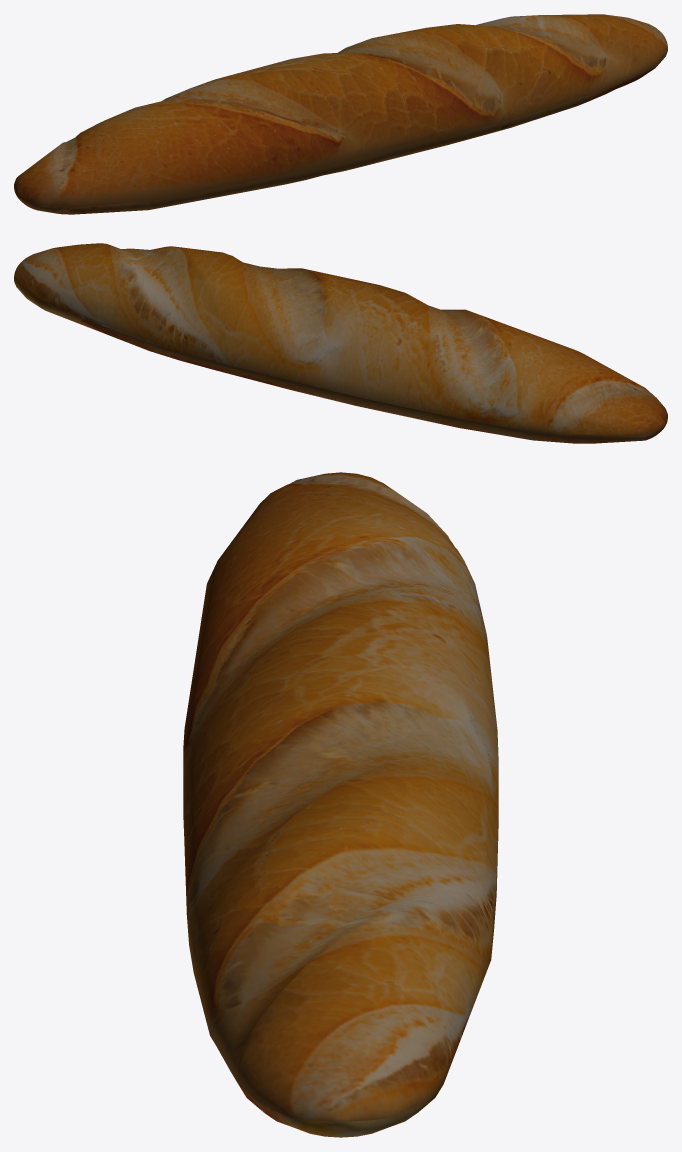
The model's file is Baguette.fbx.
The picture shows the model from 3 angles, top to bottom: view 1: azimuth 30°, elevation 25°; view 2: azimuth 150°, elevation 25°; view 3: azimuth 270°, elevation 25°; orthographic projection. The views are drawn at different scales.
Visible parts, largest first — view 1: Group43081; view 2: Group43081; view 3: Group43081.
Boxes of the visible parts, left/top/right/bottom form: Group43081: left=14, top=14, right=667, bottom=214; Group43081: left=14, top=243, right=667, bottom=443; Group43081: left=183, top=472, right=498, bottom=1137.
Size of the model in its own units: 337 by 45 by 71.28.
1 material, 1 textured.
